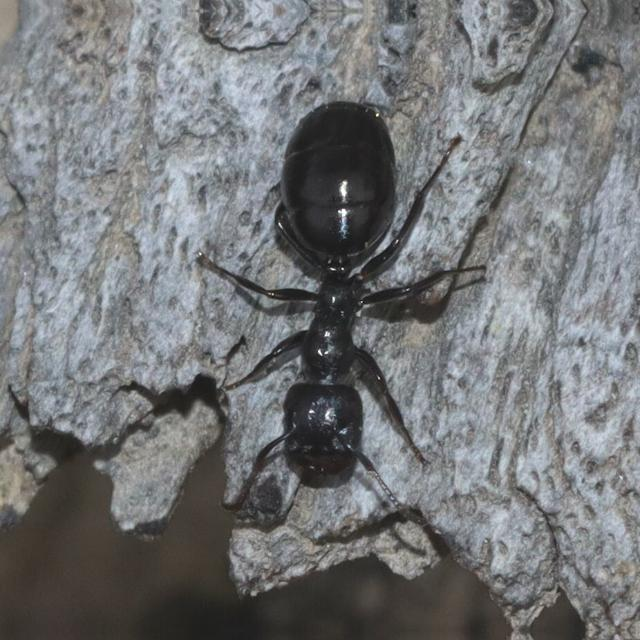Colobopsis: (220, 77, 450, 519)
